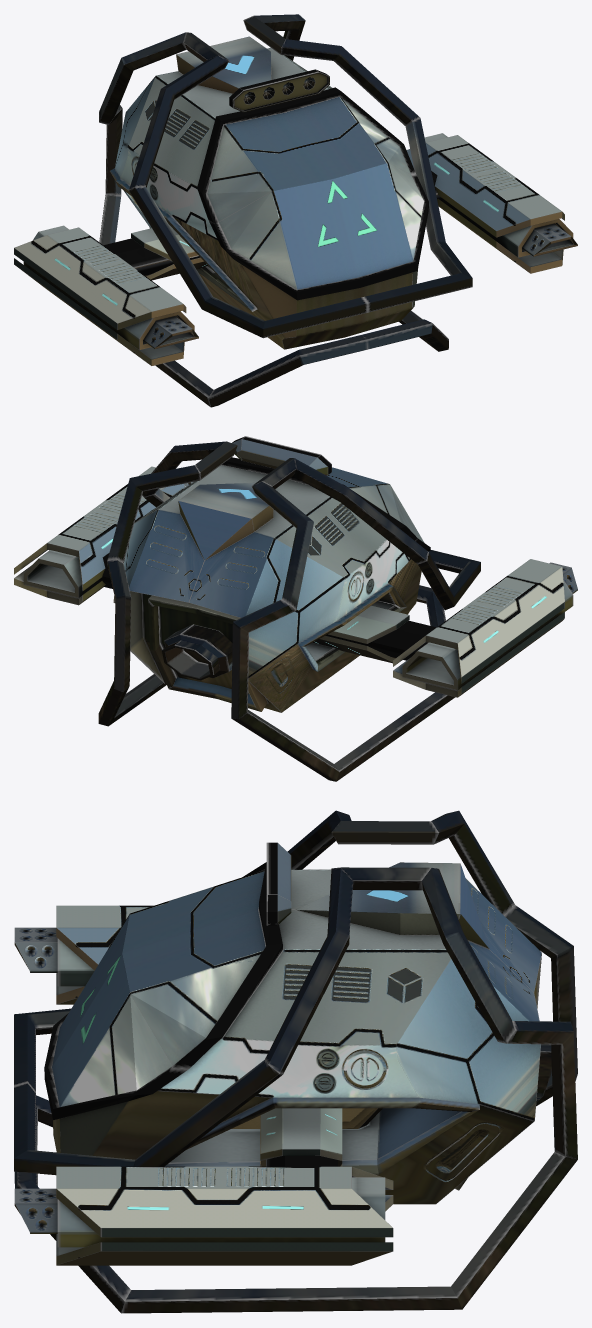
File: parcali_drone5.FBX
3 renders of one model, top to bottom at view 1: azimuth 30°, elevation 25°; view 2: azimuth 150°, elevation 25°; view 3: azimuth 270°, elevation 25°, orthographic. The views are drawn at different scales.
Visible parts, largest first — view 1: Object018, NGon004, Object012, Object011, Object002, Object001, Object003, Object013, Object006, Object004, Object005, Object015 (+1 smaller); view 2: NGon004, Object012, Object002, Object011, Object001, Object014, Object003, Object018, Object006, Object013, Object017, Object015 (+3 smaller); view 3: NGon004, Object011, Object018, Object001, Object012, Object005, Object006, Object008, Object002, Object003, Object013, Object010 (+1 smaller).
Boxes of the visible parts, x1,y1,x2,y2 form: Object018: (197,87,428,300); NGon004: (110,36,418,349); Object012: (99,32,367,407); Object011: (243,14,472,351); Object002: (14,227,186,329); Object001: (406,135,564,237); Object003: (23,225,198,349); Object013: (229,69,329,112); Object006: (424,133,577,257); Object004: (14,258,184,365); Object005: (437,199,563,273); Object015: (104,238,200,275); NGon004: (113,465,421,712); Object012: (231,458,480,781); Object002: (393,559,564,683); Object011: (98,441,237,726); Object001: (14,466,184,590); Object014: (162,624,232,680); Object003: (402,562,577,690); Object018: (222,457,430,551); Object006: (23,482,193,598); Object013: (232,436,331,475); Object017: (328,605,409,643); Object015: (325,620,436,660); NGon004: (53,862,541,1204); Object011: (14,867,577,1313); Object018: (44,862,282,1119); Object001: (56,1166,393,1237); Object012: (14,810,577,1147); Object005: (56,1195,393,1265); Object006: (14,1177,385,1247); Object008: (260,1108,342,1160); Object002: (56,905,153,970); Object003: (14,927,94,986); Object013: (266,842,291,925); Object010: (231,1108,382,1128).
Bounding box in the file's own units: 114 × 67.02 × 88.05.
1 material, 1 textured.
